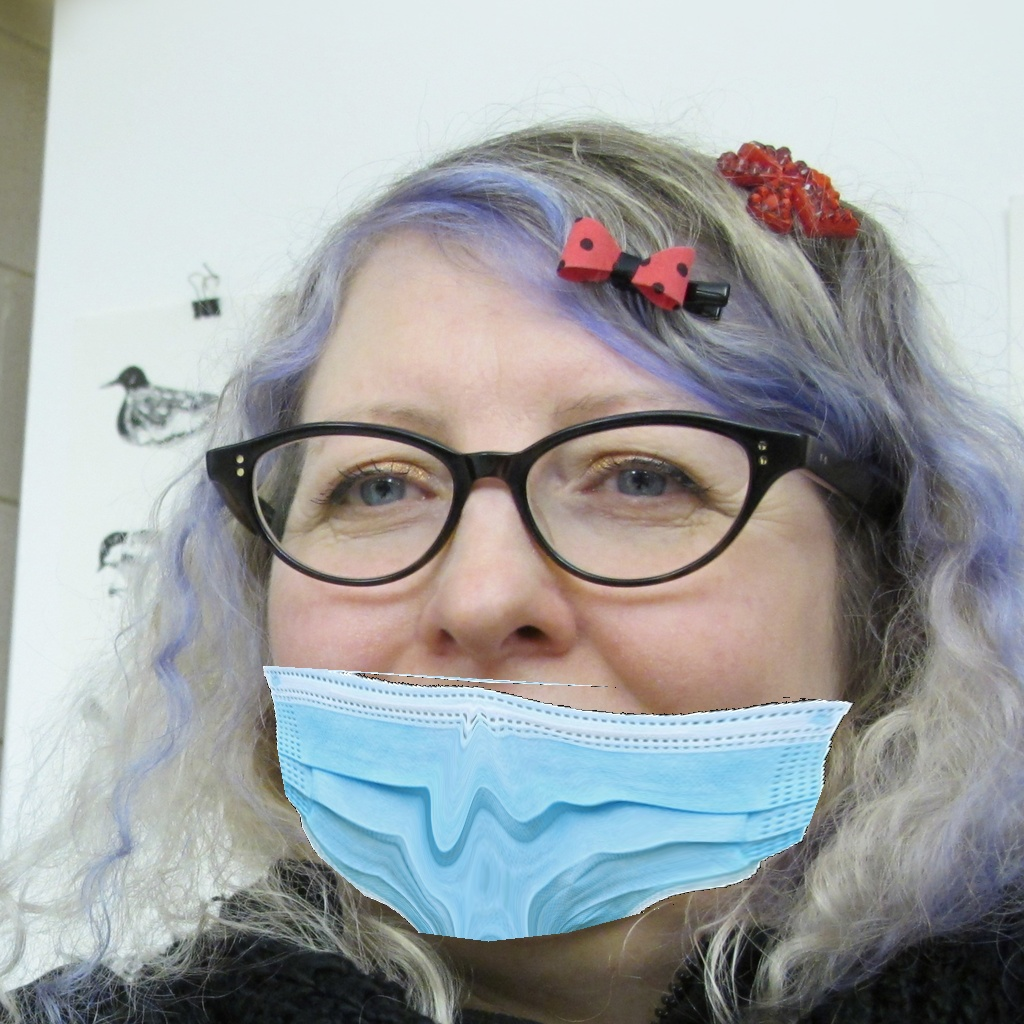mask_weared_incorrect: (234, 419, 862, 954)
